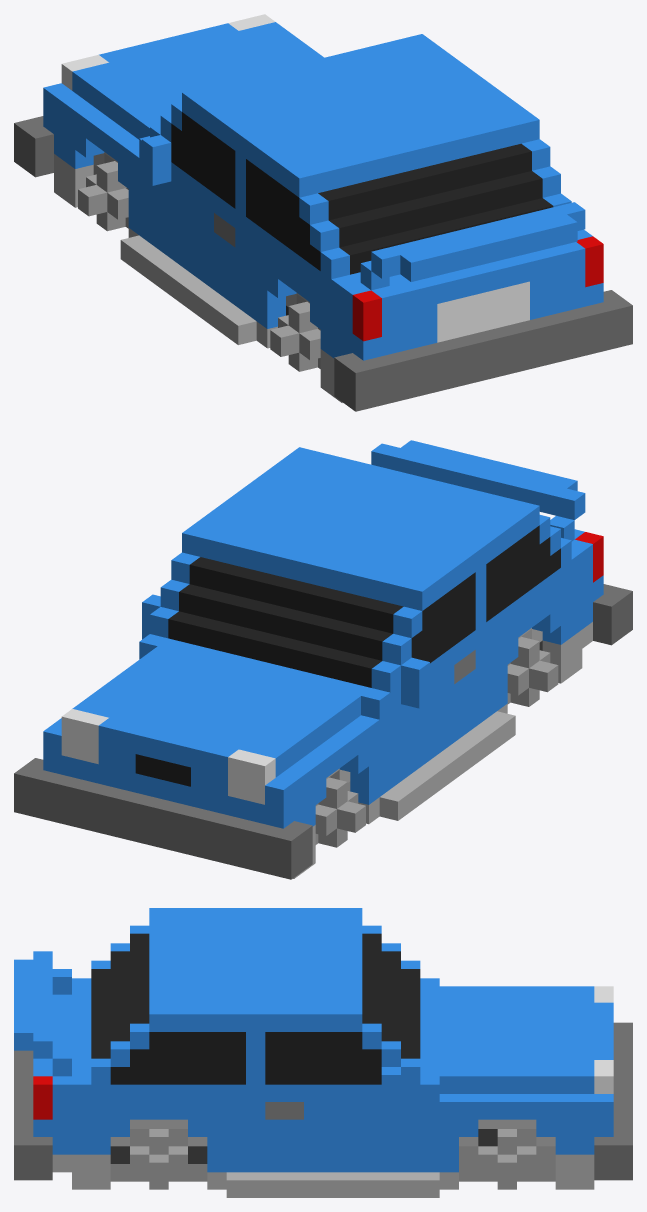
File: car.glb
The picture shows the model from 3 angles, top to bottom: view 1: azimuth 30°, elevation 25°; view 2: azimuth 150°, elevation 25°; view 3: azimuth 270°, elevation 25°; orthographic projection. The views are drawn at different scales.
Parts seen in each view (by area): view 1: Car; view 2: Car; view 3: Car.
Part boxes in pixels (left/top/right/bottom): Car: left=14, top=14, right=632, bottom=411; Car: left=14, top=440, right=632, bottom=879; Car: left=14, top=908, right=632, bottom=1197.
Bounding box in the file's own units: 1.5 × 1 × 3.2.
1 material, 1 textured.
